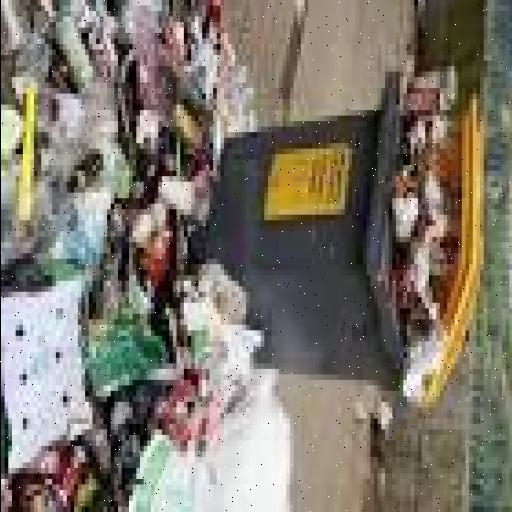poubelle_pleine: (124, 54, 494, 470)
